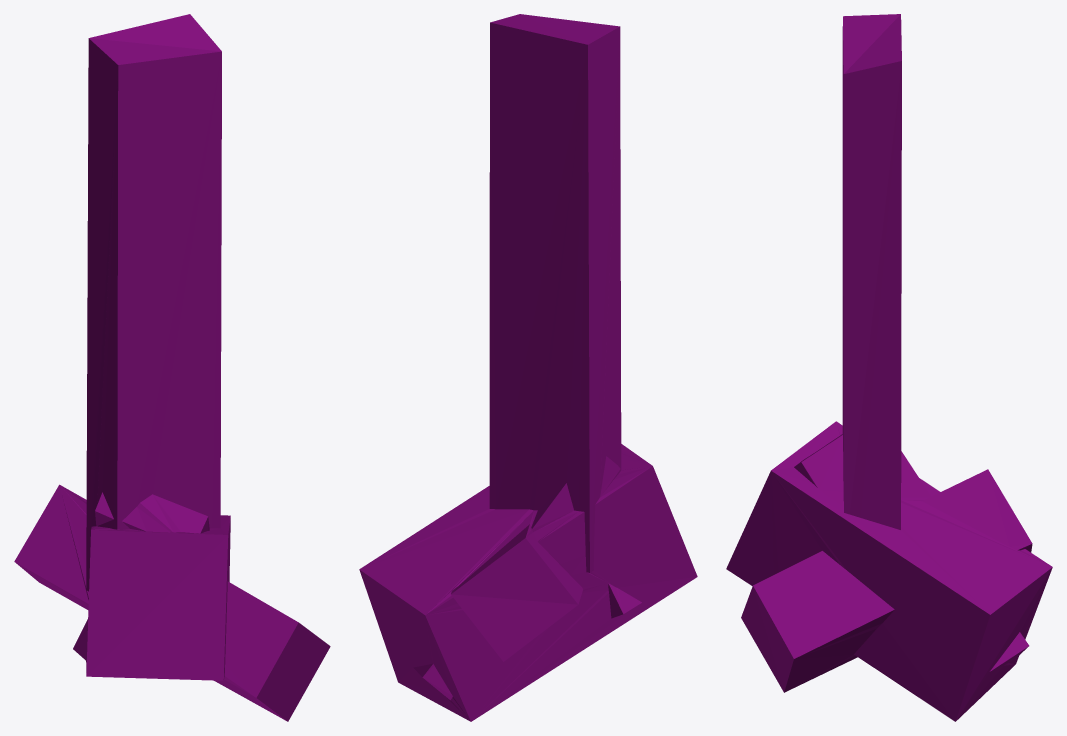
3 renders of one model, left to right at view 1: azimuth 30°, elevation 25°; view 2: azimuth 150°, elevation 25°; view 3: azimuth 270°, elevation 25°, orthographic. The views are drawn at different scales.
Visible parts, largest first — view 1: 835_Cube.3367; view 2: 835_Cube.3367; view 3: 835_Cube.3367.
Part boxes in pixels (box(x1,y1,x2,y2)): 835_Cube.3367: box(14, 14, 330, 721); 835_Cube.3367: box(359, 14, 697, 721); 835_Cube.3367: box(726, 14, 1052, 721).
Bounding box in the file's own units: 5.72 × 15.05 × 7.05.
